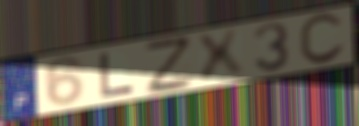3: (251, 22, 291, 74)
6: (42, 54, 89, 109)
C: (297, 12, 348, 68)
L: (98, 50, 137, 101)
X: (192, 27, 248, 86)
Z: (142, 36, 196, 97)
